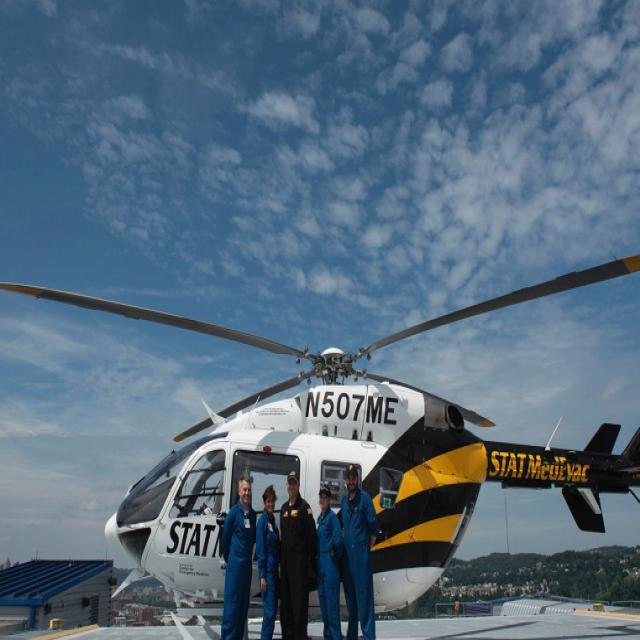helicopter: (1, 246, 640, 640)
